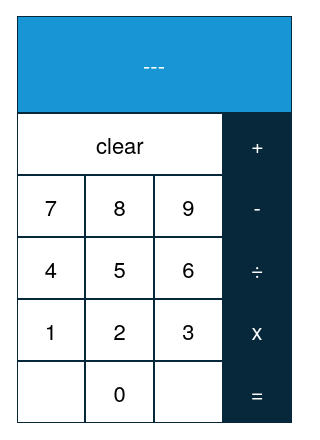
Scenario: Calculator › - operations › subtracts two numbers and displays correct result
What coordinates should you click on to do the following:
click the button "8"
I would click on:
 (120, 206)
Its box is [85, 175, 154, 237].
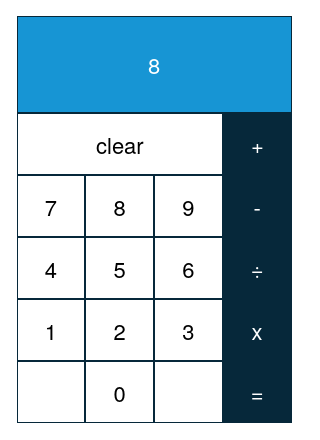
What coordinates should you click on to do the following:
click the button "7"
I would click on:
 (51, 206)
Its box is [16, 175, 85, 237].
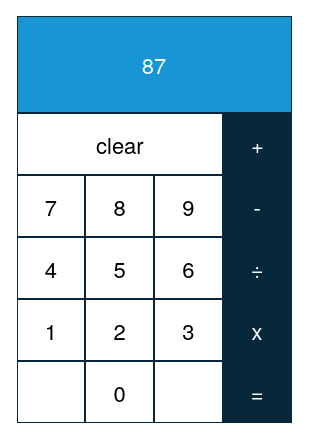
What coordinates should you click on to do the following:
click the button "-"
I would click on:
 (257, 206)
Its box is [223, 175, 292, 237].
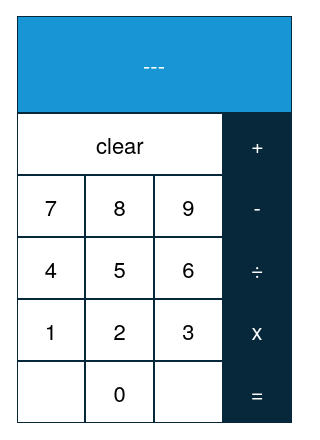
What coordinates should you click on to do the following:
click the button "4"
I would click on:
 (51, 268)
Its box is [16, 237, 85, 299].
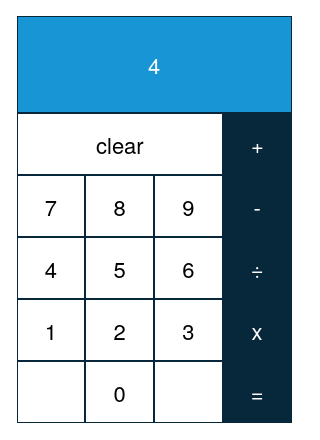
What coordinates should you click on to do the following:
click the button "5"
I would click on:
 (120, 268)
Its box is [85, 237, 154, 299].
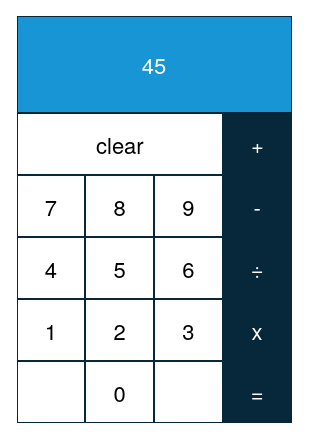
What coordinates should you click on to do the following:
click the button "="
I would click on:
 (257, 392)
Its box is [223, 361, 292, 423].
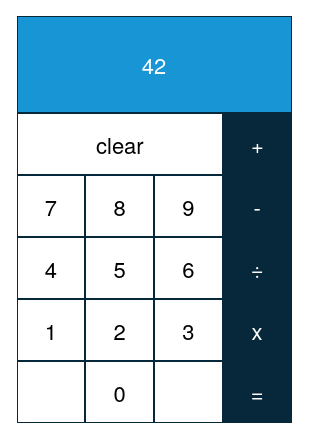
Expected: the text with test id "entry" shows "2", [16, 16, 292, 113]
